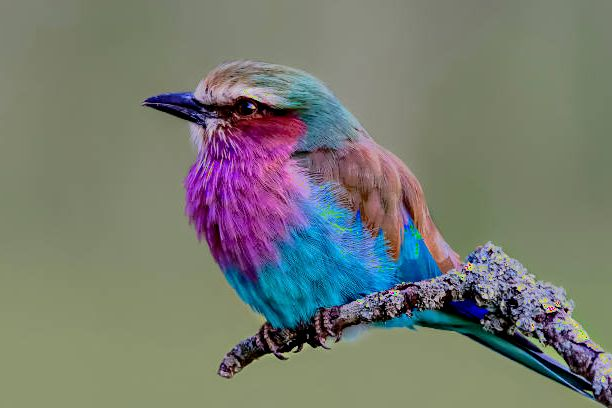Bird: (133, 54, 598, 386)
